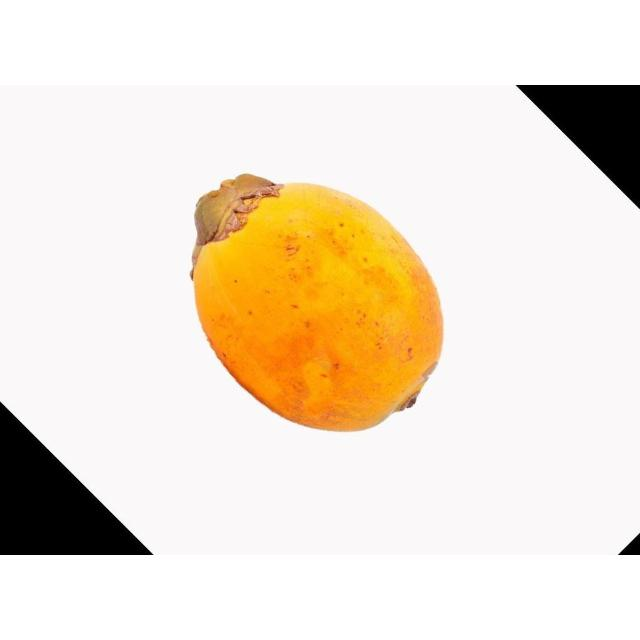good: (190, 174, 446, 435)
